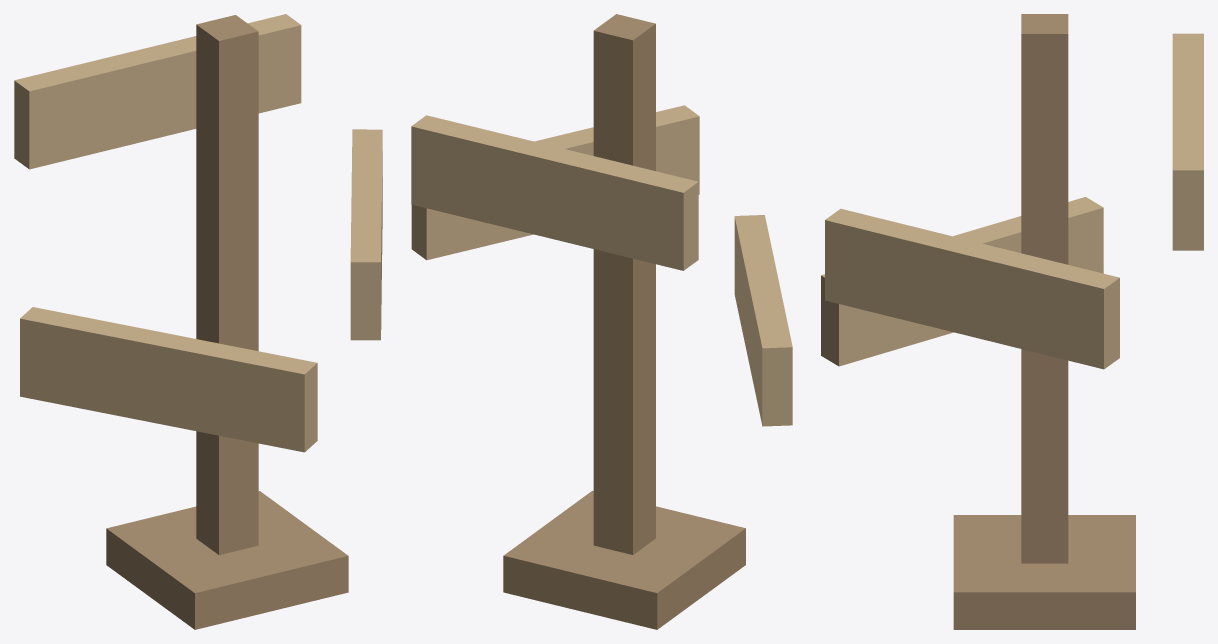
File: signpost.fbx
The picture shows the model from 3 angles, left to right: view 1: azimuth 30°, elevation 25°; view 2: azimuth 150°, elevation 25°; view 3: azimuth 270°, elevation 25°; orthographic projection. The views are drawn at different scales.
Parts seen in each view (by area): view 1: Signpost; view 2: Signpost; view 3: Signpost.
Boxes of the visible parts, x1,y1,x2,y2 form: Signpost: (14, 14, 382, 629); Signpost: (411, 14, 792, 629); Signpost: (821, 14, 1203, 629).
Size of the model in its own units: 1.7 by 2.4 by 1.47.
